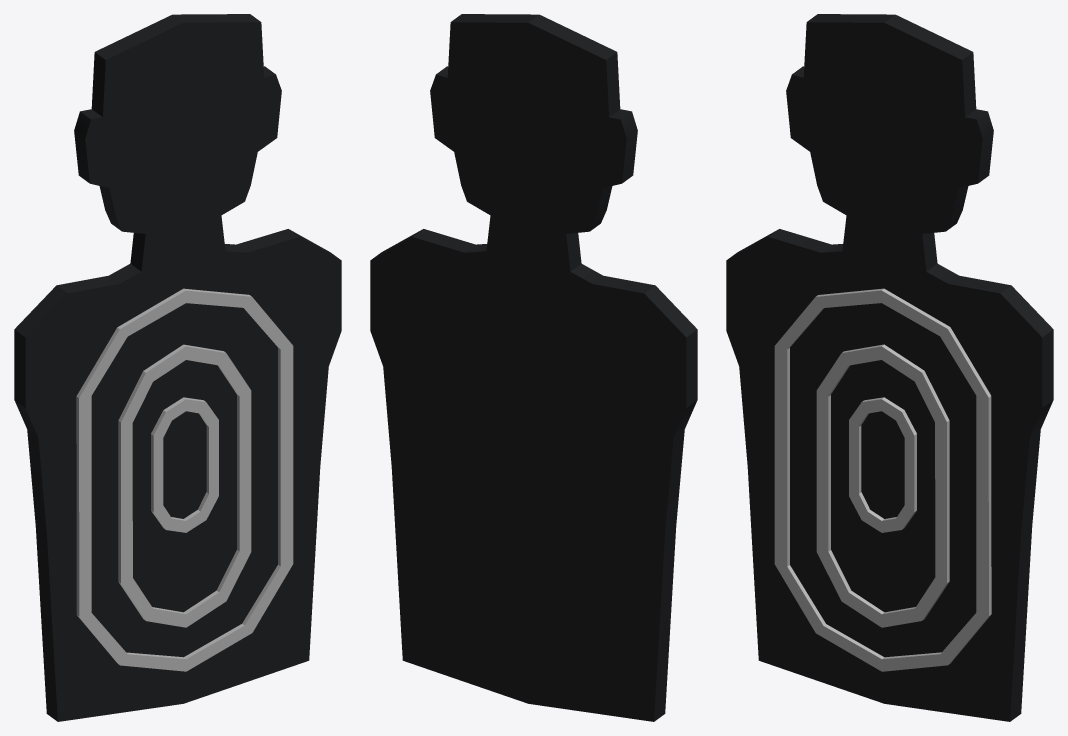
Rendered from SM_Prop_Target_01.fbx.
3 views of the same model, side by side, from view 1: azimuth 30°, elevation 25°; view 2: azimuth 150°, elevation 25°; view 3: azimuth 330°, elevation 25° (orthographic).
Parts seen in each view (by area): view 1: SM_Prop_Target_01; view 2: SM_Prop_Target_01; view 3: SM_Prop_Target_01.
Part boxes in pixels (<box>): SM_Prop_Target_01: <box>14,14,341,721</box>; SM_Prop_Target_01: <box>370,14,697,721</box>; SM_Prop_Target_01: <box>726,14,1053,721</box>.
Size of the model in its own units: 52.33 by 108 by 3.96.
